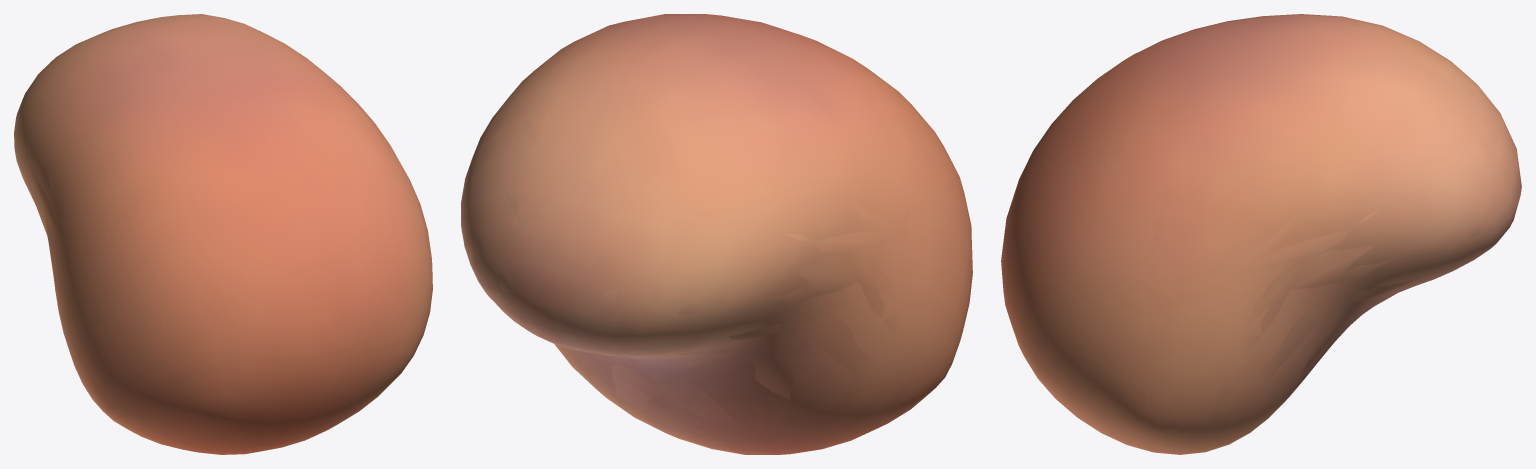
File: Urinary Bladder.fbx
The picture shows the model from 3 angles, left to right: view 1: azimuth 30°, elevation 25°; view 2: azimuth 150°, elevation 25°; view 3: azimuth 270°, elevation 25°; orthographic projection. The views are drawn at different scales.
Parts seen in each view (by area): view 1: Urinary Bladder, Urinary Bladder low; view 2: Urinary Bladder, Urinary Bladder low; view 3: Urinary Bladder, Urinary Bladder low.
Boxes of the visible parts, x1=… form: Urinary Bladder: x1=14, y1=14, x2=432, y2=454; Urinary Bladder low: x1=23, y1=19, x2=431, y2=432; Urinary Bladder: x1=461, y1=14, x2=972, y2=454; Urinary Bladder low: x1=466, y1=17, x2=965, y2=449; Urinary Bladder: x1=1001, y1=14, x2=1521, y2=454; Urinary Bladder low: x1=1001, y1=17, x2=1516, y2=427.
Size of the model in its own units: 3 by 3.11 by 3.69.
